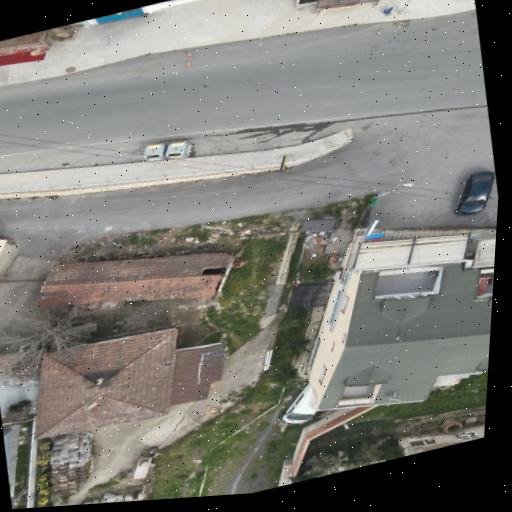car: (455, 171, 494, 214), (282, 383, 314, 423), (142, 140, 192, 160), (165, 140, 192, 158)
